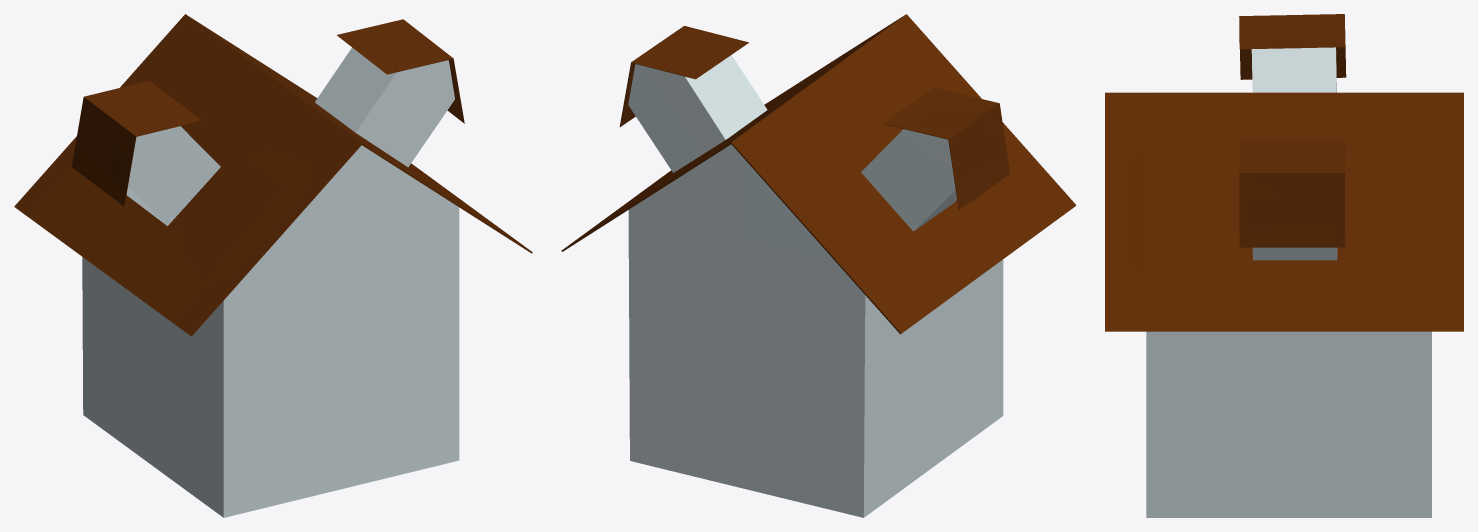
The model's file is environmentmodel4.fbx.
The picture shows the model from 3 angles, left to right: view 1: azimuth 30°, elevation 25°; view 2: azimuth 150°, elevation 25°; view 3: azimuth 270°, elevation 25°; orthographic projection. The views are drawn at different scales.
Visible parts, largest first — view 1: Cube.001; view 2: Cube.001; view 3: Cube.001.
Part boxes in pixels (x1,y1,x2,y2): Cube.001: (14,14,532,517); Cube.001: (561,14,1076,517); Cube.001: (1105,14,1463,517).
Bounding box in the file's own units: 7.26 × 7.31 × 6.48.
